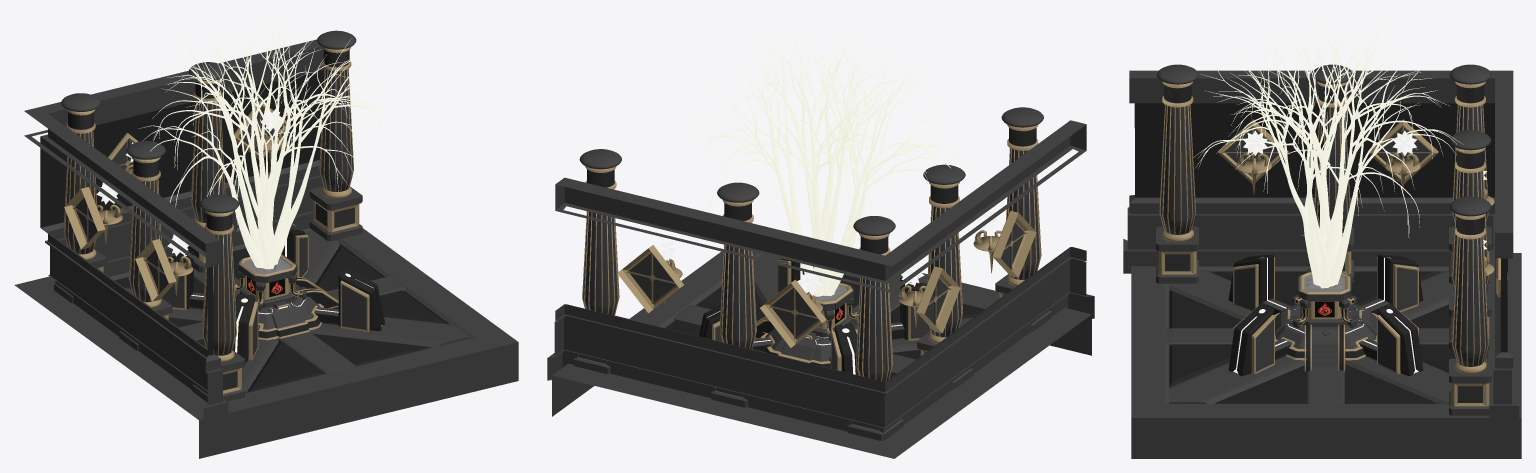
The model's file is shengyiwu.gltf.
The picture shows the model from 3 angles, left to right: view 1: azimuth 30°, elevation 25°; view 2: azimuth 150°, elevation 25°; view 3: azimuth 270°, elevation 25°; orthographic projection. The views are drawn at different scales.
Visible parts, largest first — view 1: blackWall, roughBlack, tree, gold, emiss, tone; view 2: blackWall, tree, gold, roughBlack, emiss; view 3: blackWall, roughBlack, tree, gold, emiss, tone, white.
Boxes of the visible parts, x1,y1,x2,y2 form: blackWall: (14, 30, 518, 458); roughBlack: (40, 50, 447, 392); tree: (139, 15, 400, 269); gold: (63, 47, 369, 393); emiss: (96, 108, 382, 352); tone: (187, 203, 354, 390); blackWall: (547, 107, 1094, 458); tree: (675, 15, 969, 338); gold: (578, 124, 1041, 431); roughBlack: (587, 128, 1036, 378); emiss: (654, 207, 999, 374); blackWall: (1123, 64, 1521, 458); roughBlack: (1134, 84, 1507, 403); tree: (1193, 14, 1463, 288); gold: (1158, 81, 1507, 406); emiss: (1233, 130, 1486, 373); tone: (1165, 254, 1482, 402); white: (1304, 275, 1345, 291).
Size of the model in its own units: 7.44 by 7.07 by 7.45.
8 materials, 1 textured.
